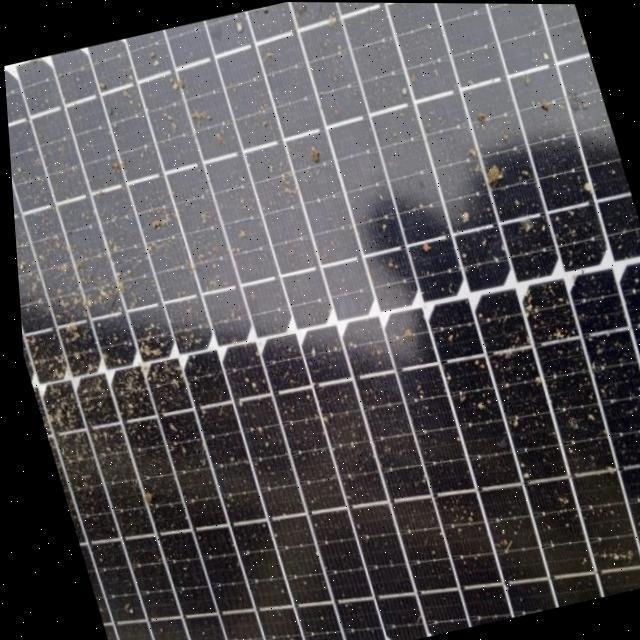Surface Contaminant: (3, 2, 640, 640)
